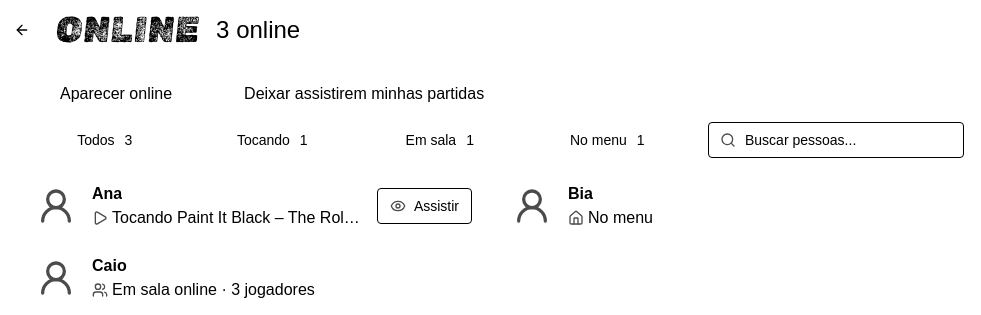
Test: TelaOnline › mostra quantos estão online e filtra por onde cada um está
Expected: the text "3 online" is shown, x1=216 y1=18 x2=300 y2=42
Click the tab "Em sala 1". click: (440, 140)
box: x1=358 y1=125 x2=522 y2=154
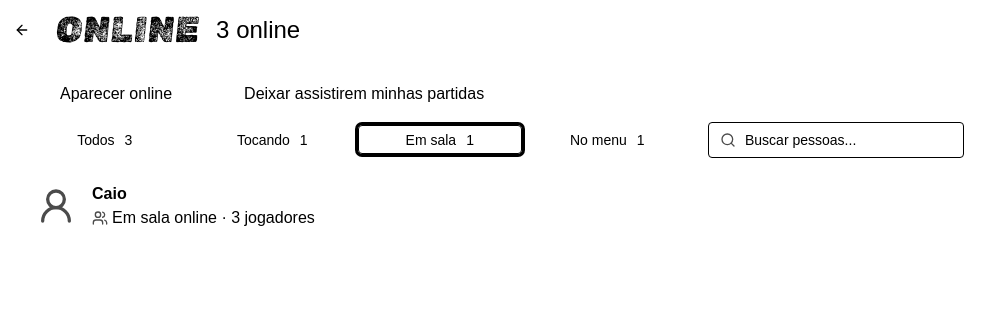
Expected: the text "Caio" is shown, x1=92 y1=182 x2=127 y2=206
Result: the text "Ana" is gone
